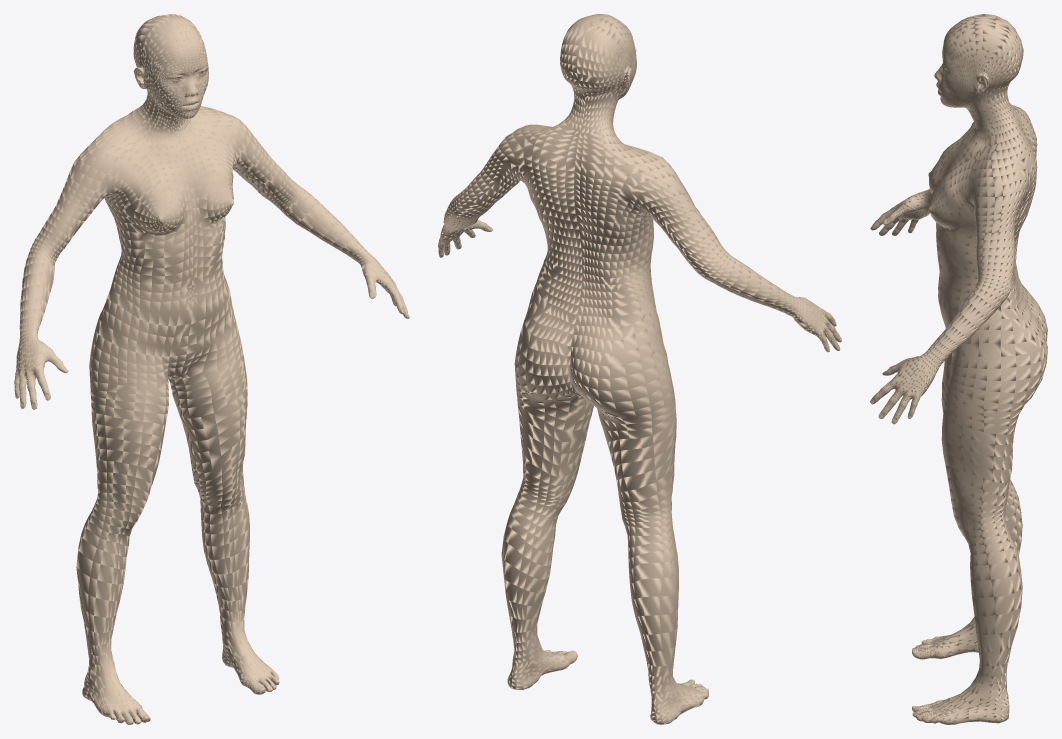
File: woman.glb
3 views of the same model, side by side, from view 1: azimuth 30°, elevation 25°; view 2: azimuth 150°, elevation 25°; view 3: azimuth 270°, elevation 25° (orthographic). The views are drawn at different scales.
Visible parts, largest first — view 1: womanMesh; view 2: womanMesh; view 3: womanMesh.
Boxes of the visible parts, x1=… form: womanMesh: x1=14, y1=14, x2=409, y2=724; womanMesh: x1=438, y1=14, x2=841, y2=724; womanMesh: x1=870, y1=14, x2=1047, y2=724.
Size of the model in its own units: 0.9052 by 1.49 by 0.3596.
4 materials, 3 textured.
